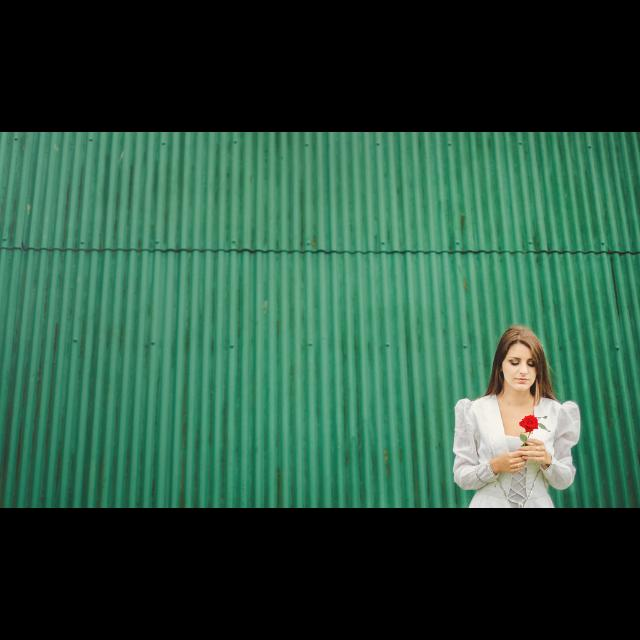Flower: (516, 414, 536, 434)
